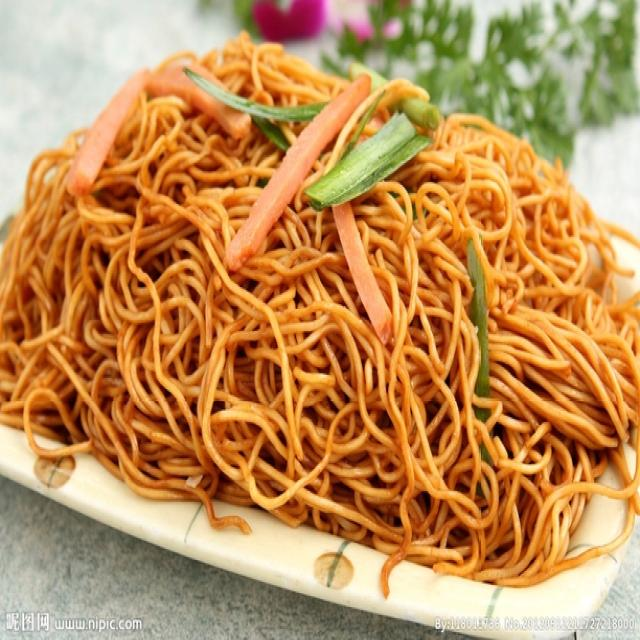面条主食: (3, 20, 628, 607)
